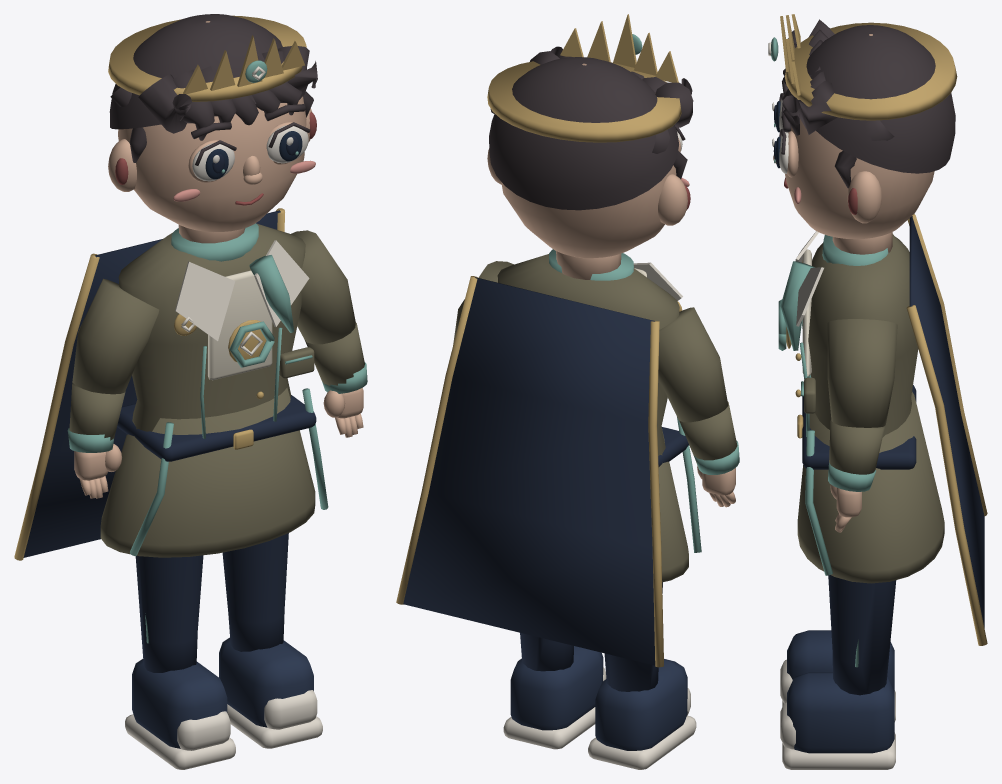
Rendered from npc_hexruins_boss.glb.
3 renders of one model, left to right at view 1: azimuth 30°, elevation 25°; view 2: azimuth 150°, elevation 25°; view 3: azimuth 270°, elevation 25°, orthographic. The views are drawn at different scales.
Parts seen in each view (by area): view 1: figure.089; view 2: figure.089; view 3: figure.089.
Boxes of the visible parts, left/top/right/bottom form: figure.089: left=14, top=14, right=367, bottom=769; figure.089: left=396, top=14, right=739, bottom=769; figure.089: left=768, top=14, right=987, bottom=769.
Size of the model in its own units: 0.7814 by 1.84 by 0.5069.
